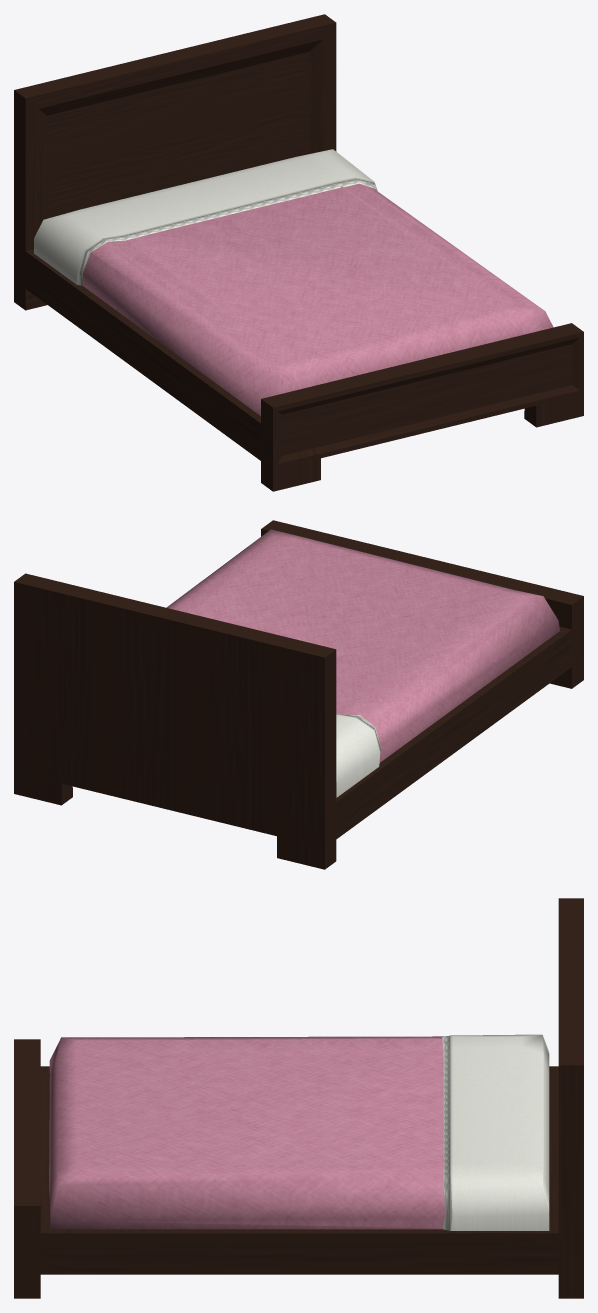
Rendered from Bed_K.FBX.
The picture shows the model from 3 angles, top to bottom: view 1: azimuth 30°, elevation 25°; view 2: azimuth 150°, elevation 25°; view 3: azimuth 270°, elevation 25°; orthographic projection. The views are drawn at different scales.
Visible parts, largest first — view 1: Bed; view 2: Bed; view 3: Bed.
Part boxes in pixels (x1=…): Bed: x1=14, y1=14, x2=583, y2=491; Bed: x1=14, y1=520, x2=583, y2=869; Bed: x1=14, y1=898, x2=583, y2=1298.
Bounding box in the file's own units: 397 × 259 × 573.
